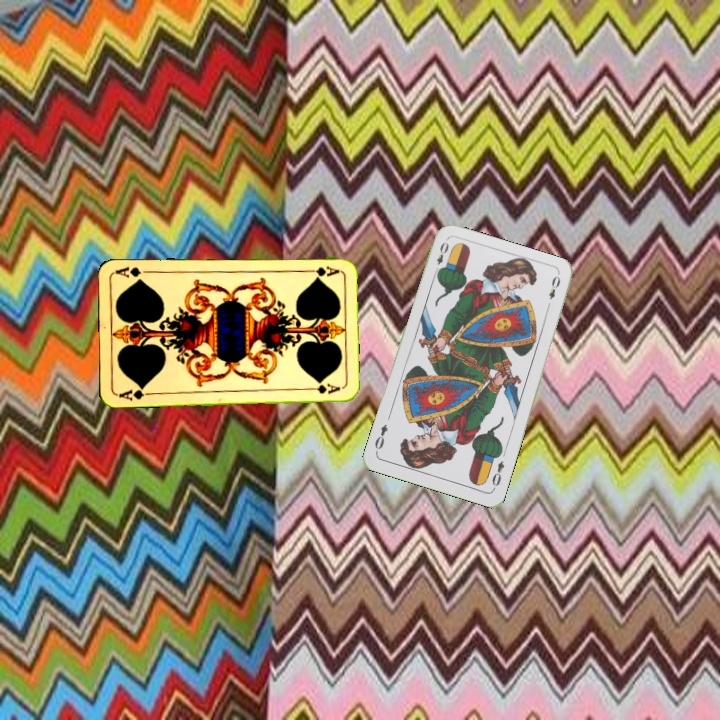EO: (431, 238, 451, 276), (488, 457, 507, 492)
GA: (115, 383, 155, 403), (301, 262, 342, 279)
